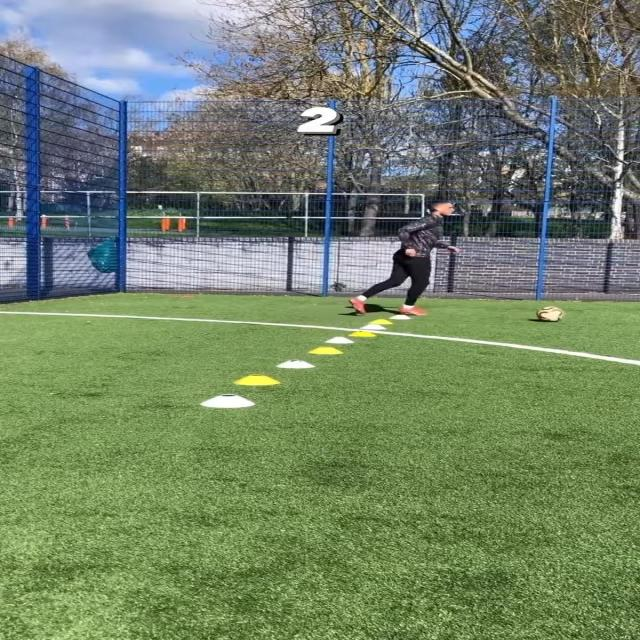Soccer Ball: (536, 306, 565, 322)
